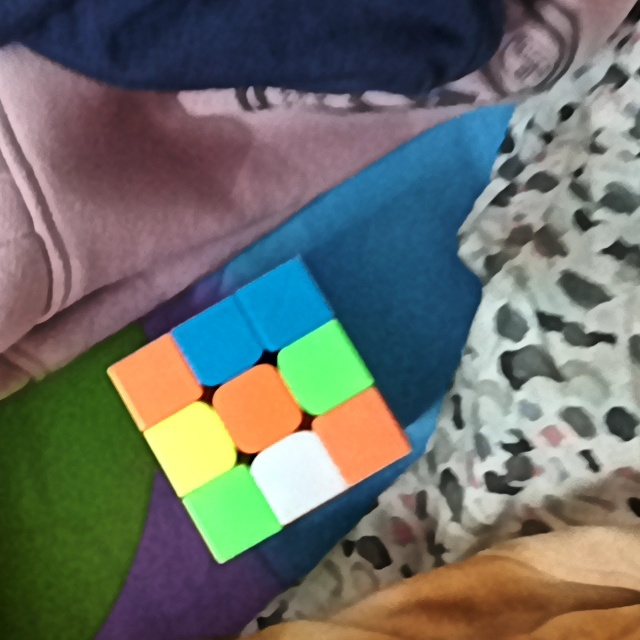tile: (204, 487, 257, 540), (294, 343, 349, 394), (258, 281, 315, 329), (231, 385, 284, 436), (271, 451, 324, 501), (337, 410, 387, 463), (130, 359, 182, 408), (164, 424, 218, 471), (192, 321, 244, 369)
